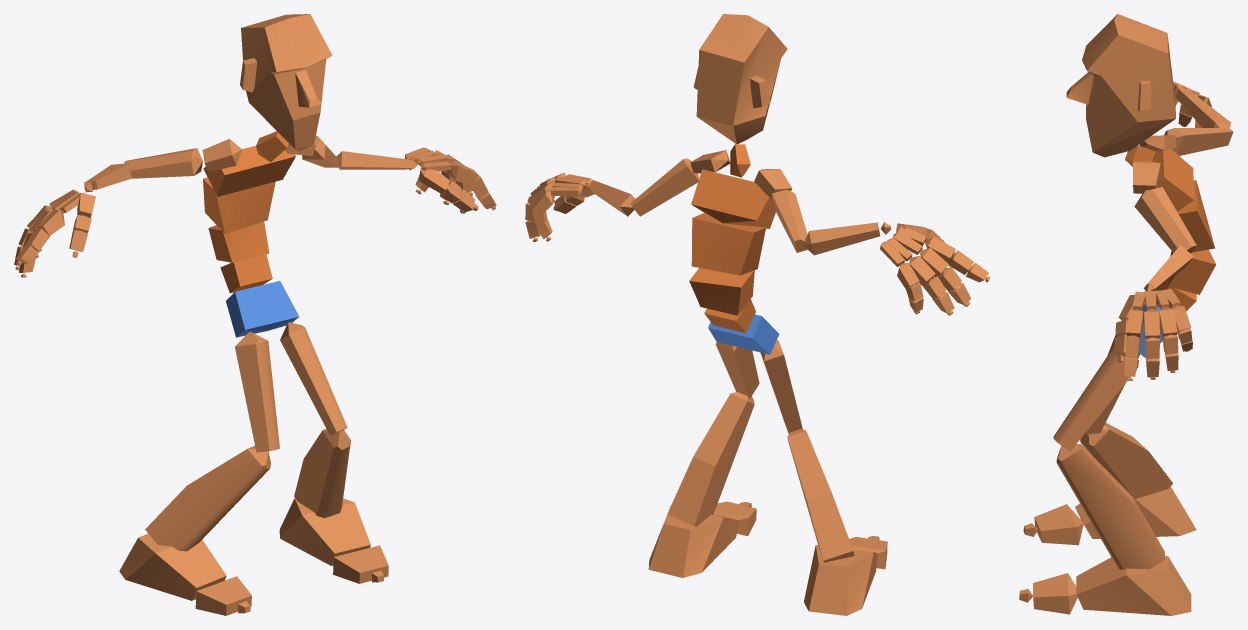
File: personaje323.obj
3 views of the same model, side by side, from view 1: azimuth 30°, elevation 25°; view 2: azimuth 150°, elevation 25°; view 3: azimuth 270°, elevation 25° (orthographic). The views are drawn at different scales.
Visible parts, largest first — view 1: BOPED_Head, BOPED_R_leg, BOPED_R_foot, BOPED_R_foot01, BOPED_L_leg, BOPED_R_legup, BOPED_L_legup, Bone01, Bone04, Bone05, Bone03, BOPED_R_arm_upper (+7 smaller); view 2: BOPED_Head, BOPED_L_leg, BOPED_R_foot01, BOPED_R_foot, BOPED_R_leg, Bone04, Bone05, Bone03, BOPED_R_legup, BOPED_L_arm_upper, Bone01, BOPED_R_arm_fore (+8 smaller); view 3: BOPED_Head, BOPED_L_leg, BOPED_R_foot01, BOPED_R_leg, BOPED_L_legup, BOPED_R_foot, BOPED_L_arm_upper, Bone05, BOPED_R_foot_toe01, BOPED_R_foot_toe04, BOPED_R_arm_upper, Bone03 (+14 smaller).
Part boxes in pixels (x1,y1,x2,y2): BOPED_Head: (240, 14, 332, 150); BOPED_R_leg: (145, 446, 270, 551); BOPED_R_foot: (119, 533, 226, 600); BOPED_R_foot01: (279, 498, 370, 565); BOPED_L_leg: (294, 428, 350, 518); BOPED_R_legup: (235, 332, 279, 452); BOPED_L_legup: (280, 322, 347, 435); Bone01: (226, 281, 299, 337); Bone04: (203, 177, 275, 233); Bone05: (203, 145, 295, 196); Bone03: (208, 221, 269, 262); BOPED_R_arm_upper: (124, 148, 202, 178); BOPED_Head: (693, 14, 787, 143); BOPED_L_leg: (667, 392, 754, 526); BOPED_R_foot01: (648, 505, 739, 577); BOPED_R_foot: (804, 545, 877, 615); BOPED_R_leg: (787, 429, 854, 562); Bone04: (691, 213, 765, 275); Bone05: (691, 169, 775, 228); Bone03: (689, 268, 754, 315); BOPED_R_legup: (760, 340, 802, 433); BOPED_L_arm_upper: (630, 158, 698, 216); Bone01: (708, 314, 779, 354); BOPED_R_arm_fore: (803, 222, 880, 255); BOPED_Head: (1066, 14, 1175, 157); BOPED_L_leg: (1056, 444, 1164, 569); BOPED_R_foot01: (1076, 556, 1191, 615); BOPED_R_leg: (1080, 423, 1172, 499); BOPED_L_legup: (1053, 346, 1138, 451); BOPED_R_foot: (1075, 486, 1196, 538); BOPED_L_arm_upper: (1134, 187, 1196, 253); Bone05: (1153, 149, 1194, 211); BOPED_R_foot_toe01: (1034, 504, 1083, 545); BOPED_R_foot_toe04: (1033, 573, 1077, 614); BOPED_R_arm_upper: (1164, 128, 1233, 155); Bone03: (1168, 249, 1216, 294).
Size of the model in its own units: 160 by 177 by 61.44.
